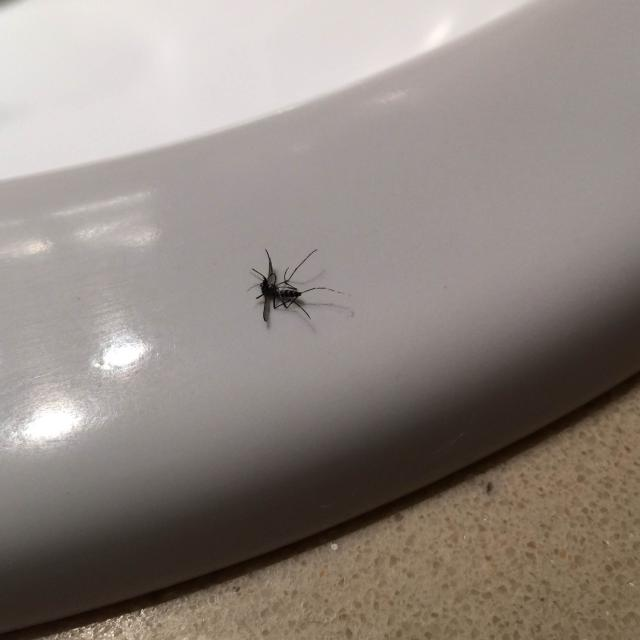albopictus: (235, 238, 348, 332)
